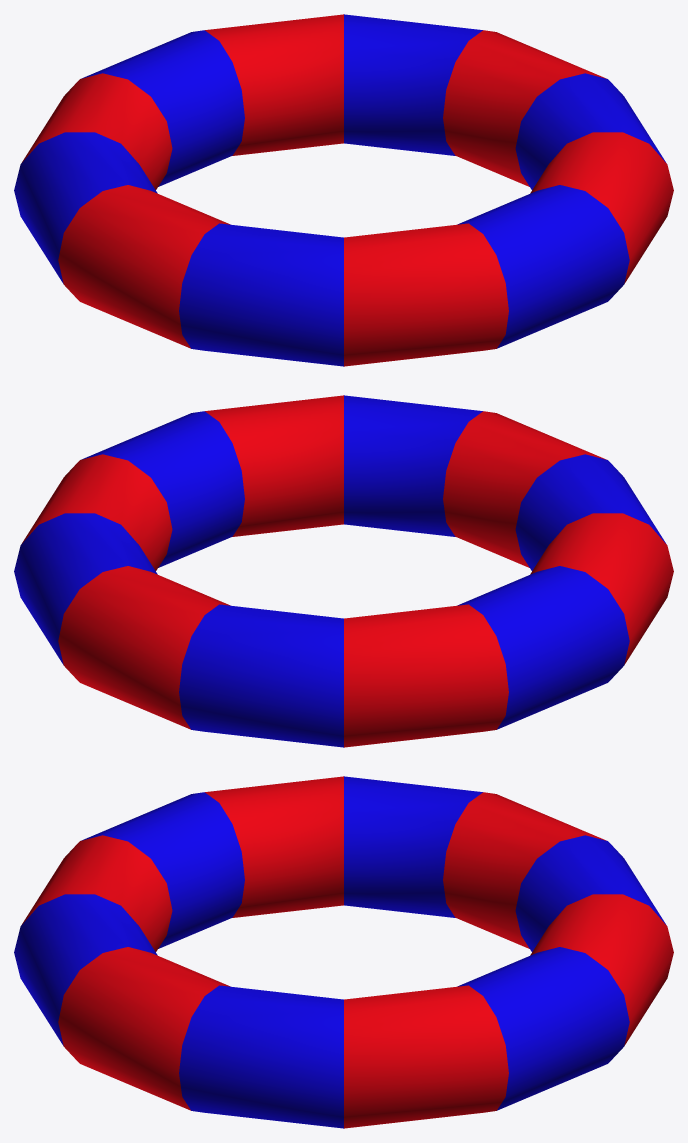
Rendered from Ring.fbx.
3 views of the same model, one above another, from view 1: azimuth 30°, elevation 25°; view 2: azimuth 150°, elevation 25°; view 3: azimuth 270°, elevation 25° (orthographic).
Parts seen in each view (by area): view 1: Torus; view 2: Torus; view 3: Torus.
Part boxes in pixels (left/top/right/bottom): Torus: left=14, top=14, right=673, bottom=366; Torus: left=14, top=395, right=673, bottom=747; Torus: left=14, top=776, right=673, bottom=1128.
Bounding box in the file's own units: 250 × 48.75 × 250.
